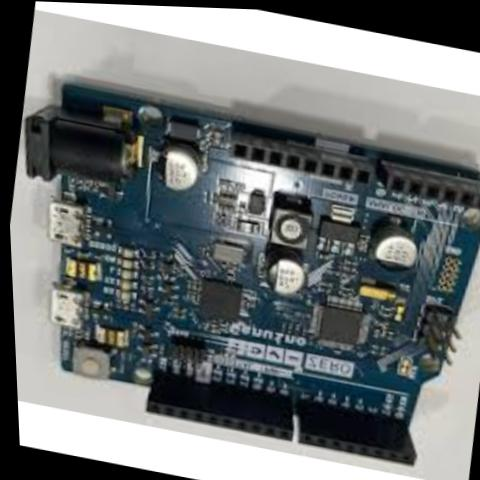Arduino-Zero: (2, 59, 480, 480)
